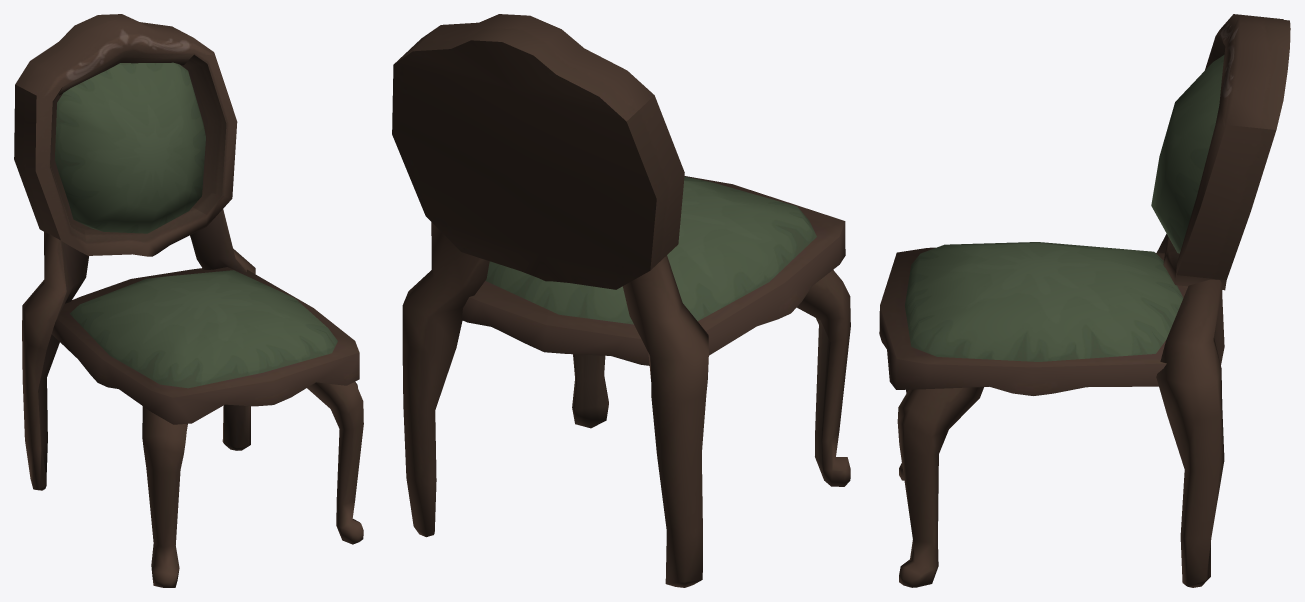
The model's file is chair2.FBX.
3 renders of one model, left to right at view 1: azimuth 30°, elevation 25°; view 2: azimuth 150°, elevation 25°; view 3: azimuth 270°, elevation 25°, orthographic. The views are drawn at different scales.
Parts seen in each view (by area): view 1: Box053; view 2: Box053; view 3: Box053.
Boxes of the visible parts, x1,y1,x2,y2 form: Box053: (14,14,363,587); Box053: (392,14,850,587); Box053: (879,14,1290,587).
Bounding box in the file's own units: 21.49 × 28.55 × 39.1.
Materials: 1 (1 with a texture image).
